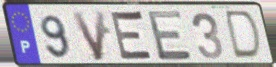3: (191, 12, 224, 61)
9: (38, 13, 72, 60)
D: (224, 9, 263, 62)
E: (145, 9, 195, 63), (109, 9, 156, 64)
V: (69, 9, 107, 63)
